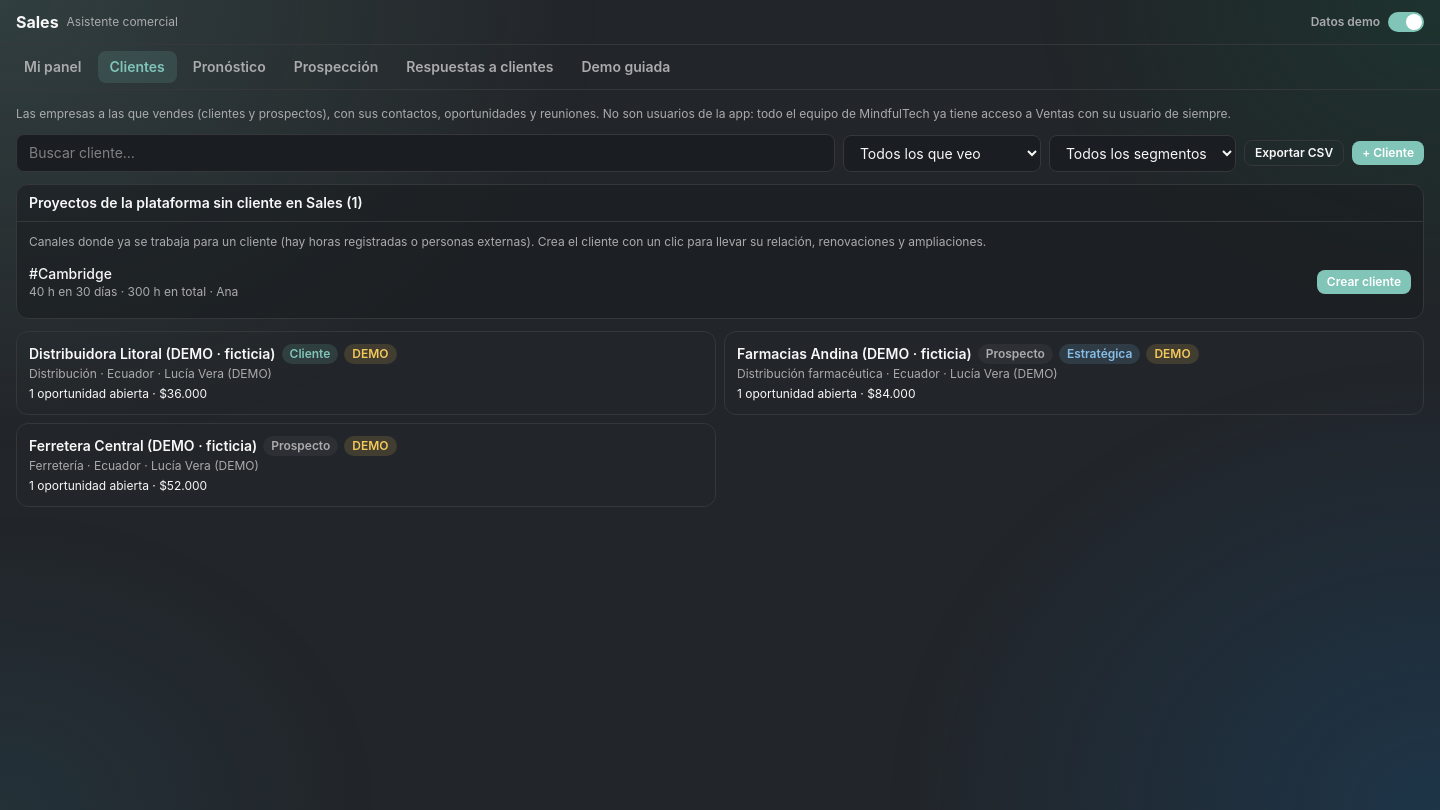
Scenario: the client's project in the platform (Phase 75) › a project channel becomes a client in one click, linked to its hours
Expected: the list that starts with "Cambridge" shows "#Cambridge", [29,258,1411,306]
Expected: the list that starts with "Cambridge" shows "40 h en 30 días", [29,258,1411,306]
Click the button "Crear cliente".
click(1364, 282)  # box [1317,270,1411,294]
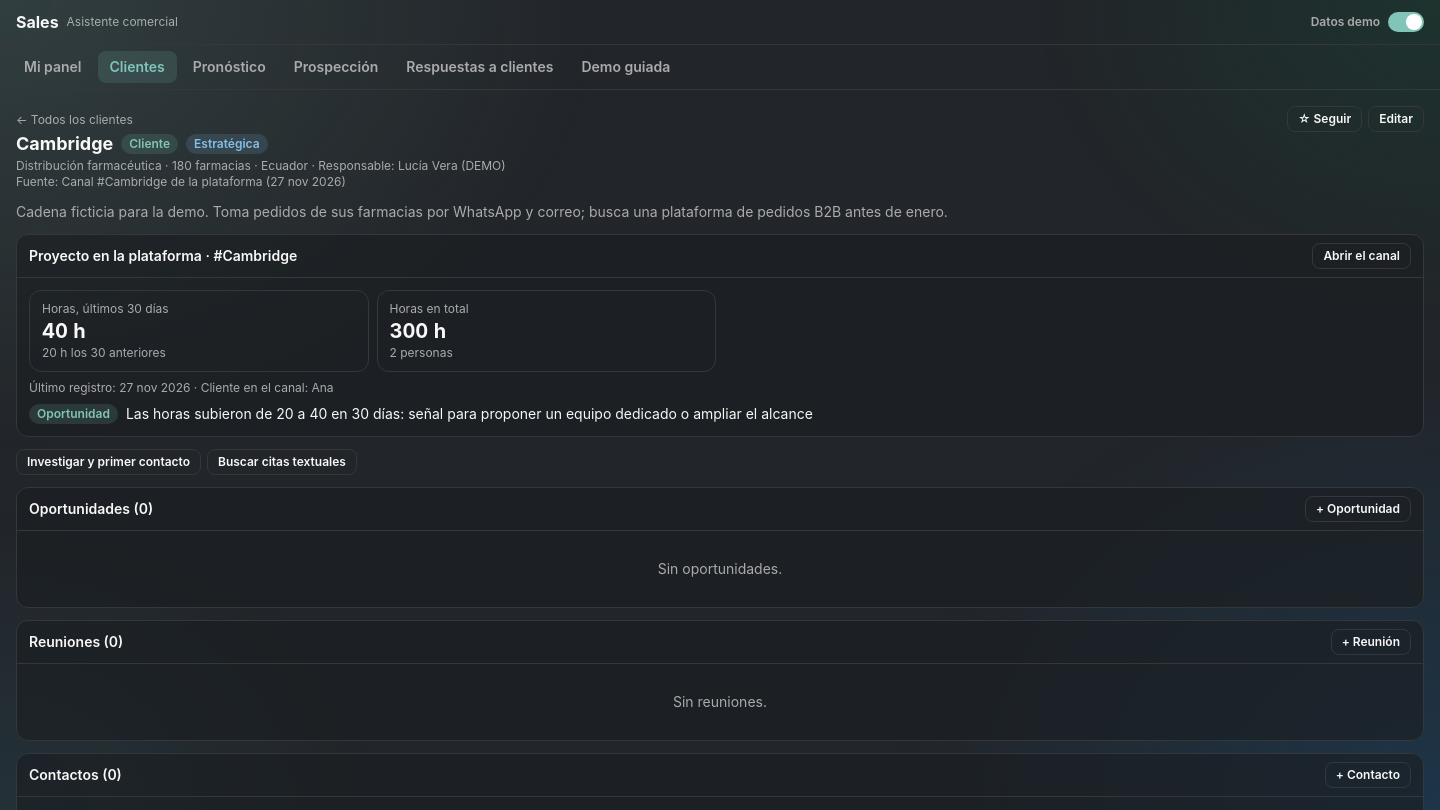
Now the element that starts with "Horas, últimos 30 días" shows "40 h", box [42,319,86,343]
Now the text "Las horas subieron de 20 a 40" is shown, box [126,405,813,422]
